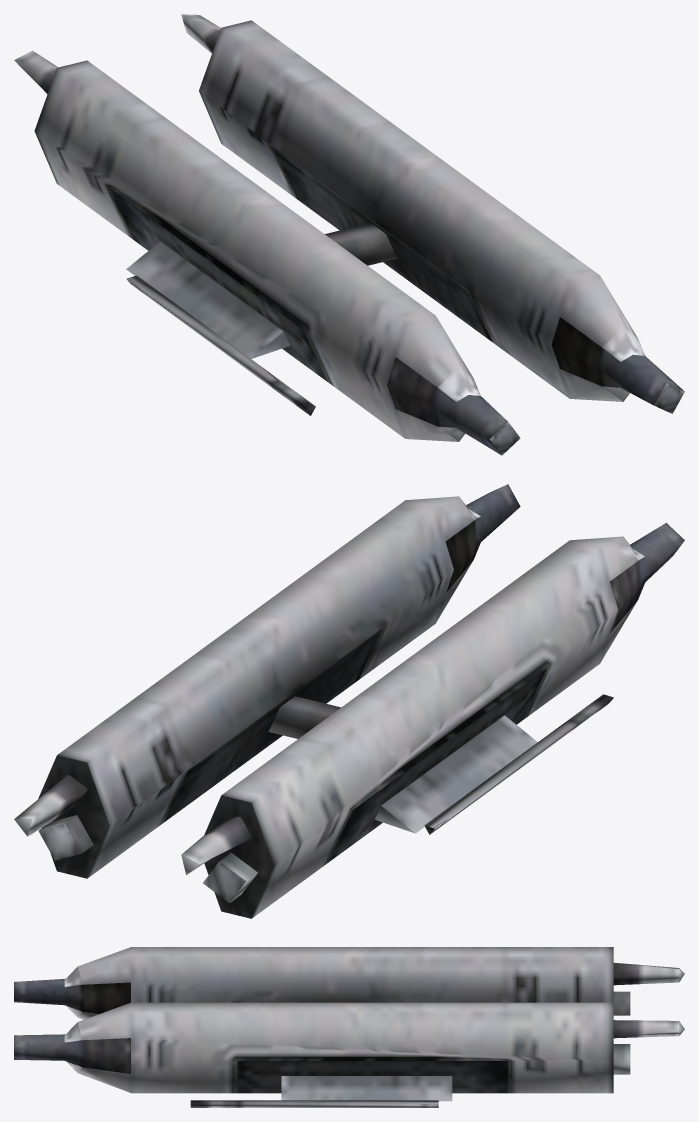
Rendered from spacestation_turret_body_s02_l2.fbx.
The picture shows the model from 3 angles, top to bottom: view 1: azimuth 30°, elevation 25°; view 2: azimuth 150°, elevation 25°; view 3: azimuth 270°, elevation 25°; orthographic projection. The views are drawn at different scales.
Parts seen in each view (by area): view 1: mesh_node; view 2: mesh_node; view 3: mesh_node.
Part boxes in pixels (x1,y1,x2,y2): mesh_node: [14, 14, 684, 455]; mesh_node: [14, 484, 684, 918]; mesh_node: [14, 947, 684, 1107].
Bounding box in the file's own units: 4.39 × 1.58 × 11.92.
1 material, 1 textured.
